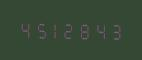eight: (77, 20, 91, 40)
five: (32, 19, 46, 39)
four: (17, 19, 31, 39), (92, 20, 106, 40)
one: (47, 19, 61, 39)
three: (107, 20, 121, 40)
two: (62, 19, 76, 40)
